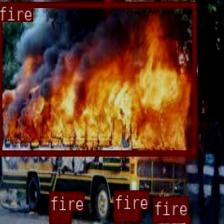fire: (0, 1, 196, 155), (152, 216, 189, 224), (113, 210, 140, 220), (48, 211, 70, 223)
